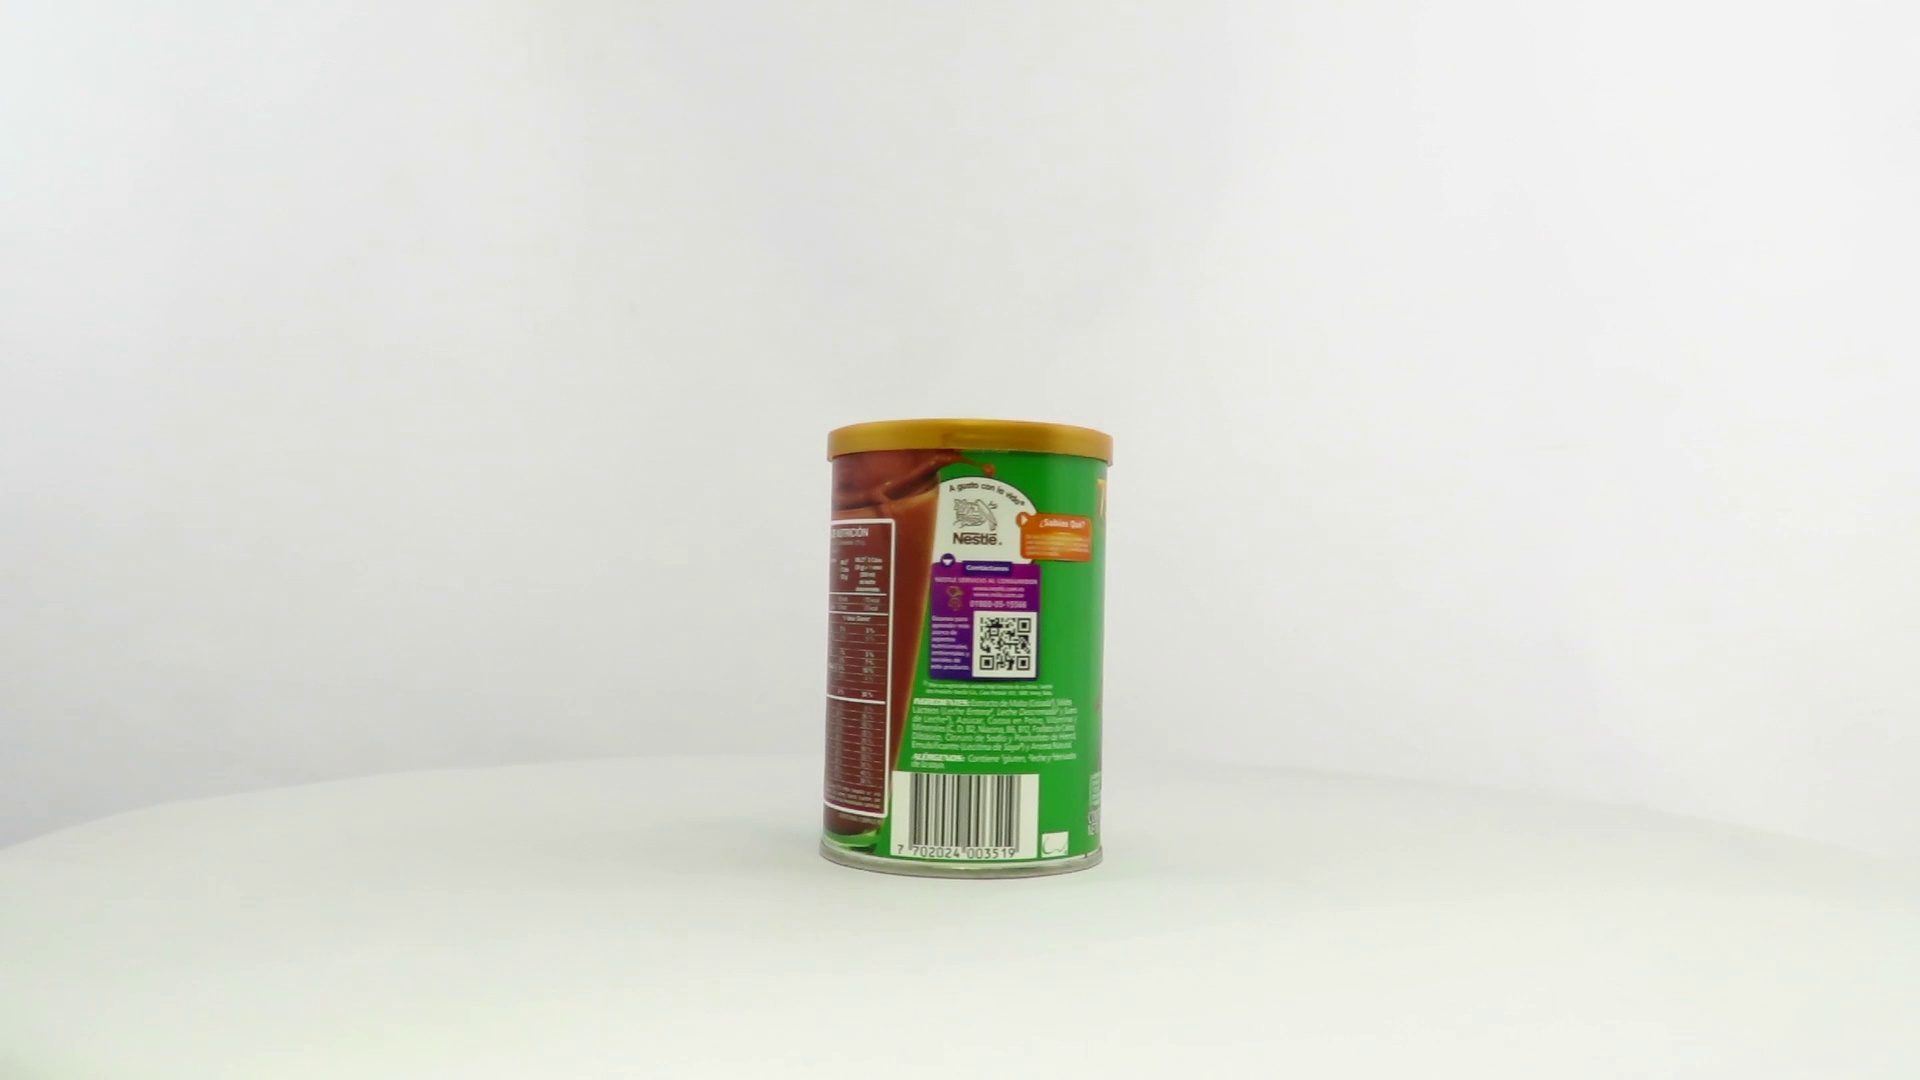COL0170203LAT20000: (814, 413, 1120, 886)
